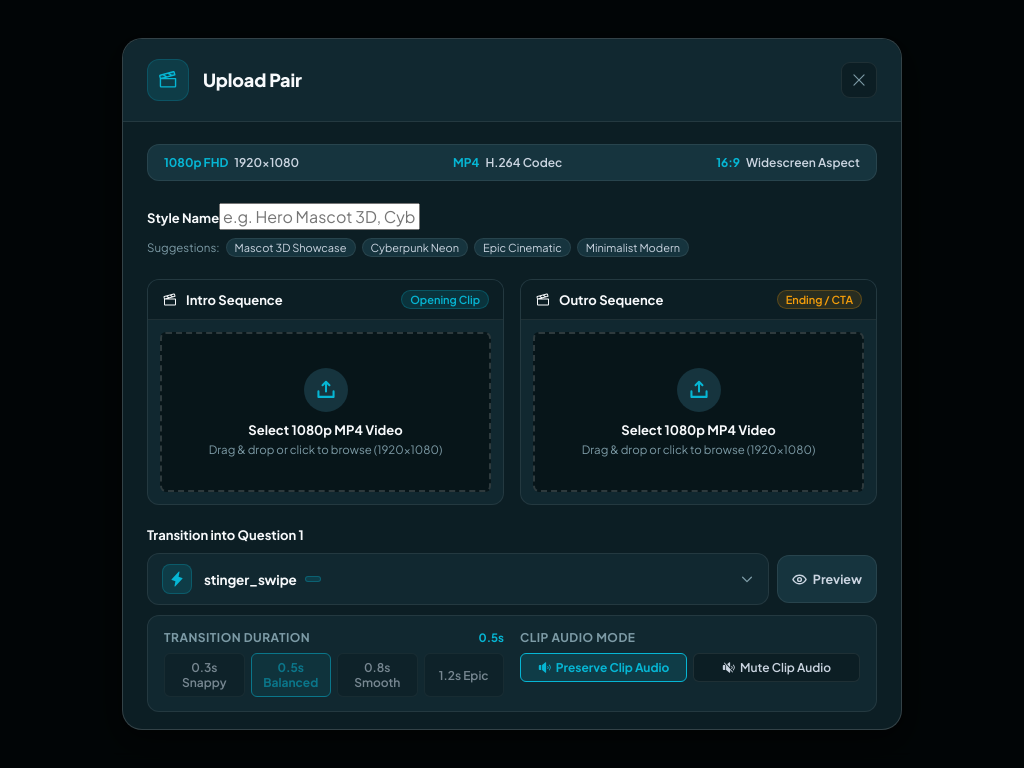
Test: CreateIntroOutroModal › keeps submit button disabled until valid videos and name are provided
Step 1. Type "Epic Opening" into the field labelled "Style Name" → [320, 217], box [219,203,420,230]
(page scrolled)
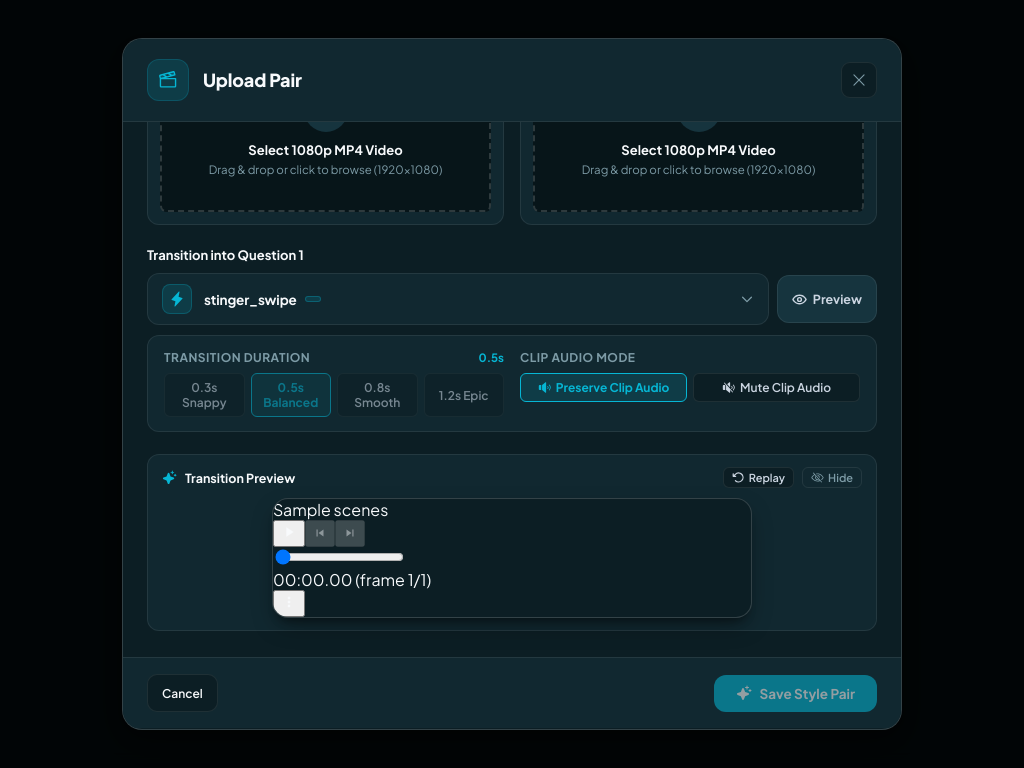
Expected: the button "Save Style Pair" is disabled, [714,675,877,712]
